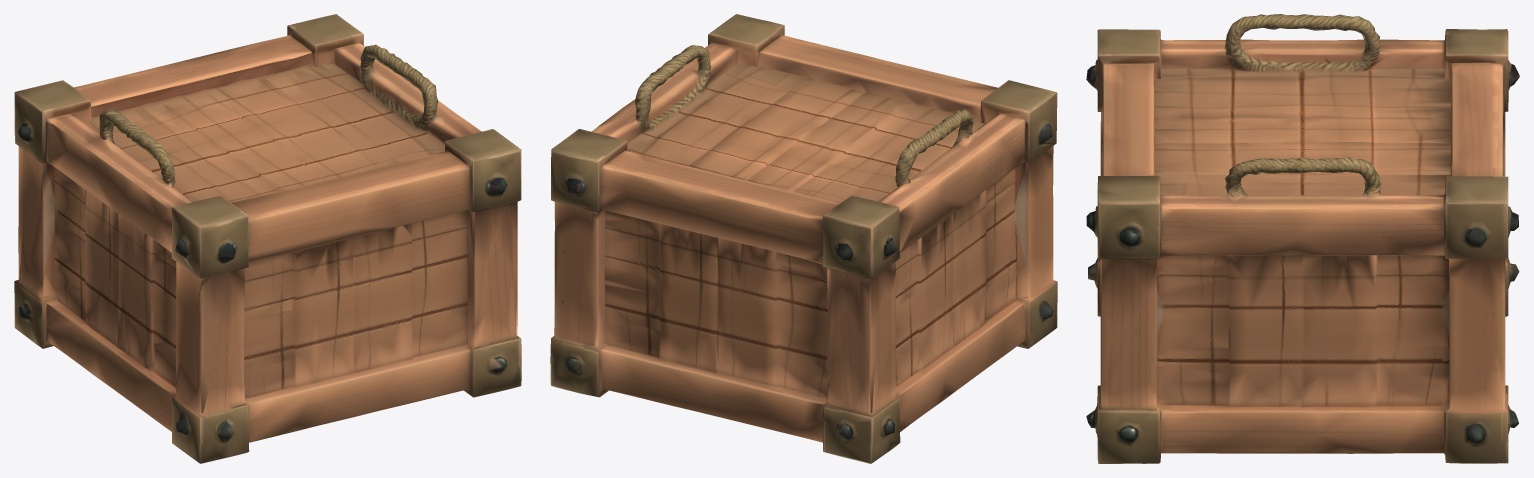
The model's file is crate.glb.
3 renders of one model, left to right at view 1: azimuth 30°, elevation 25°; view 2: azimuth 150°, elevation 25°; view 3: azimuth 270°, elevation 25°, orthographic. The views are drawn at different scales.
Size of the model in its own units: 1.93 by 1.42 by 1.92.
1 material, 1 textured.
